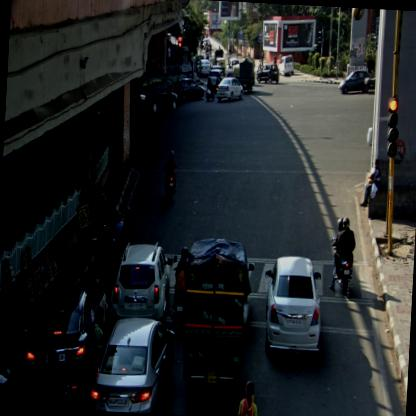car: (88, 312, 176, 414), (22, 286, 94, 400), (259, 254, 324, 360), (106, 238, 172, 326), (138, 82, 180, 116), (337, 69, 370, 96), (176, 75, 204, 103), (216, 76, 244, 102), (254, 62, 278, 88), (276, 53, 294, 77), (208, 66, 223, 86), (196, 58, 210, 76)
motorcycle: (326, 215, 358, 297), (88, 222, 116, 302), (171, 245, 188, 328), (161, 148, 177, 204), (0, 345, 13, 406), (204, 78, 214, 102)
truck: (180, 237, 246, 402), (238, 56, 254, 96)
